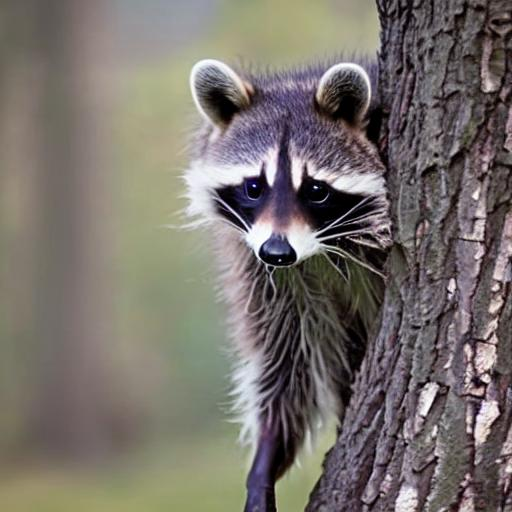raccoon: (155, 53, 393, 421)
